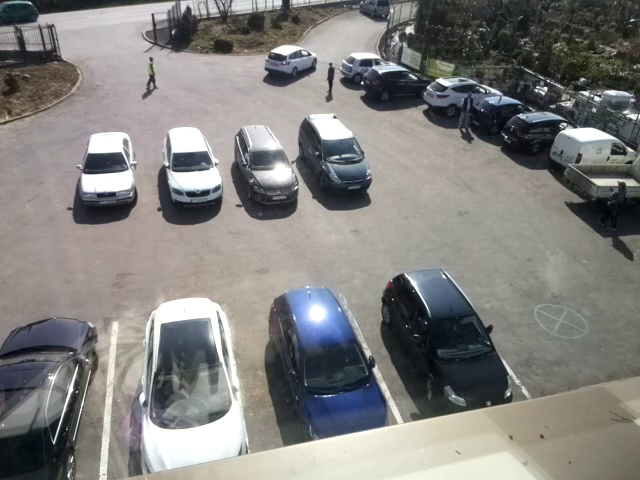car: (139, 296, 249, 475), (383, 269, 515, 413), (269, 286, 389, 444), (1, 314, 97, 480), (299, 113, 374, 193), (235, 124, 301, 206), (161, 126, 223, 207), (77, 130, 139, 208), (546, 125, 640, 173), (422, 72, 511, 119), (503, 110, 582, 155), (472, 95, 545, 132), (363, 66, 433, 102), (340, 52, 411, 84), (264, 44, 318, 79), (1, 1, 41, 26), (356, 1, 392, 22)
